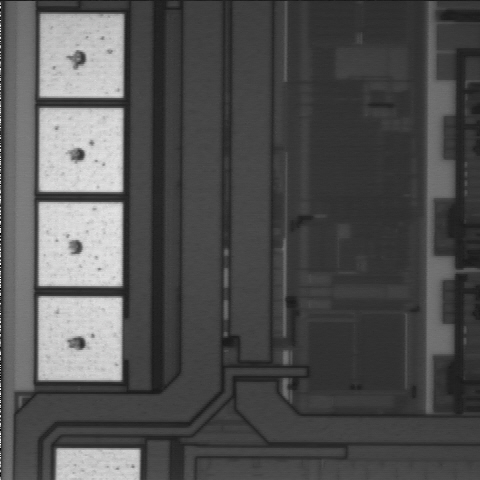pad: (39, 108, 123, 192), (40, 14, 123, 98), (39, 202, 122, 286), (39, 297, 122, 380)
